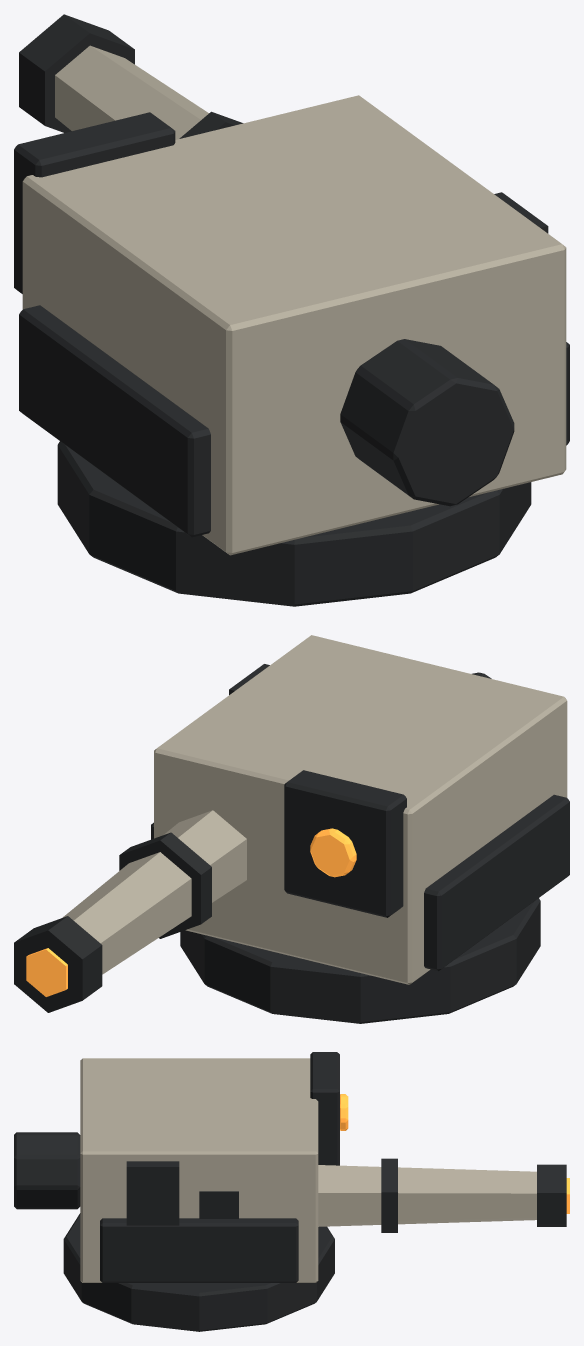
Rendered from tower_basic_turret.glb.
3 renders of one model, top to bottom at view 1: azimuth 30°, elevation 25°; view 2: azimuth 150°, elevation 25°; view 3: azimuth 270°, elevation 25°, orthographic. The views are drawn at different scales.
Parts seen in each view (by area): view 1: TowerBasic_Turret, TowerBasic_Barrel; view 2: TowerBasic_Turret, TowerBasic_Barrel; view 3: TowerBasic_Turret, TowerBasic_Barrel.
Part boxes in pixels (<box>): TowerBasic_Turret: <box>14,95,569,606</box>; TowerBasic_Barrel: <box>19,14,548,233</box>; TowerBasic_Turret: <box>151,635,569,1023</box>; TowerBasic_Barrel: <box>14,664,269,1012</box>; TowerBasic_Turret: <box>14,1052,348,1331</box>; TowerBasic_Barrel: <box>126,1158,569,1232</box>.
Size of the model in its own units: 0.41 by 0.3 by 0.84.
